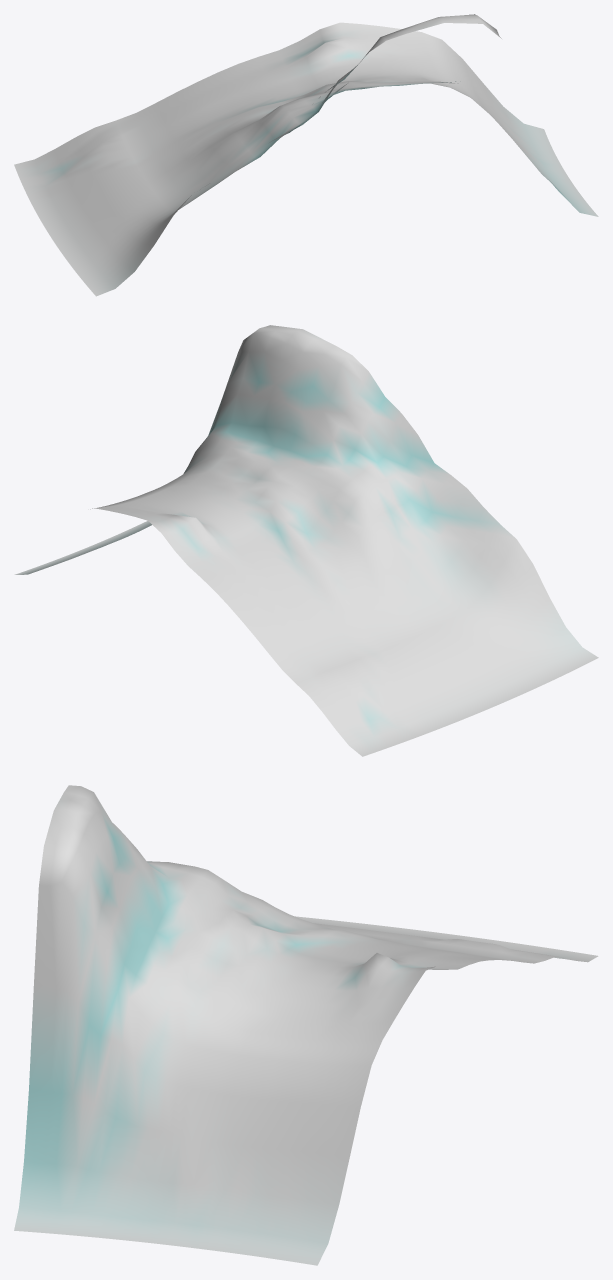
Rendered from near_3.glb.
The picture shows the model from 3 angles, top to bottom: view 1: azimuth 30°, elevation 25°; view 2: azimuth 150°, elevation 25°; view 3: azimuth 270°, elevation 25°; orthographic projection. The views are drawn at different scales.
Visible parts, largest first — view 1: Mountain; view 2: Mountain; view 3: Mountain.
Part boxes in pixels (x1=…): Mountain: x1=14, y1=14, x2=598, y2=296; Mountain: x1=14, y1=325, x2=598, y2=756; Mountain: x1=14, y1=785, x2=598, y2=1265.
Size of the model in its own units: 382 by 158 by 261.
